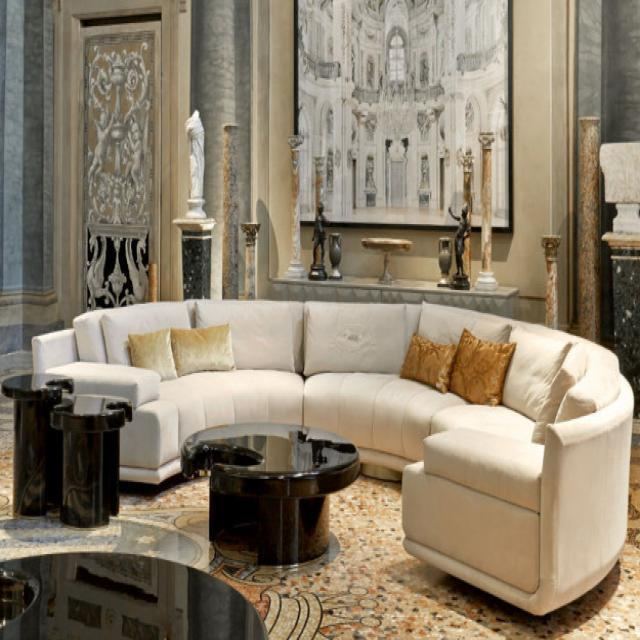sofa: (30, 294, 634, 618)
